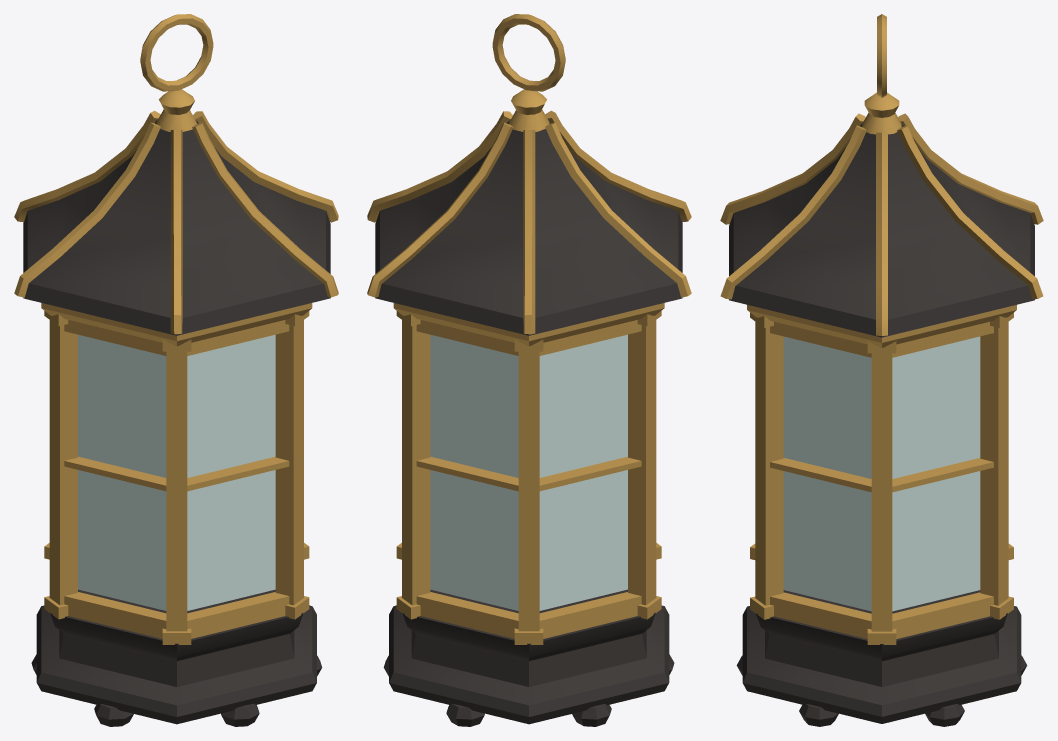
The model's file is beach_lantern.glb.
3 views of the same model, side by side, from view 1: azimuth 30°, elevation 25°; view 2: azimuth 150°, elevation 25°; view 3: azimuth 270°, elevation 25° (orthographic).
Visible parts, largest first — view 1: beach_lantern; view 2: beach_lantern; view 3: beach_lantern.
Boxes of the visible parts, x1,y1,x2,y2 form: beach_lantern: (14,14,338,726); beach_lantern: (367,14,691,726); beach_lantern: (720,14,1043,726).
Size of the model in its own units: 0.7142 by 1.4 by 0.6229.
